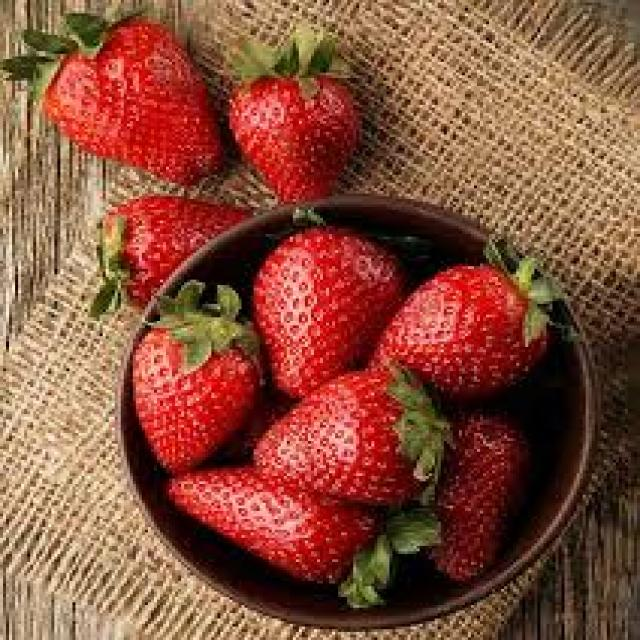strawberry: (8, 8, 218, 184), (142, 476, 408, 595), (366, 268, 567, 402), (237, 209, 393, 380), (222, 30, 371, 208), (247, 376, 443, 507), (137, 299, 257, 465)
